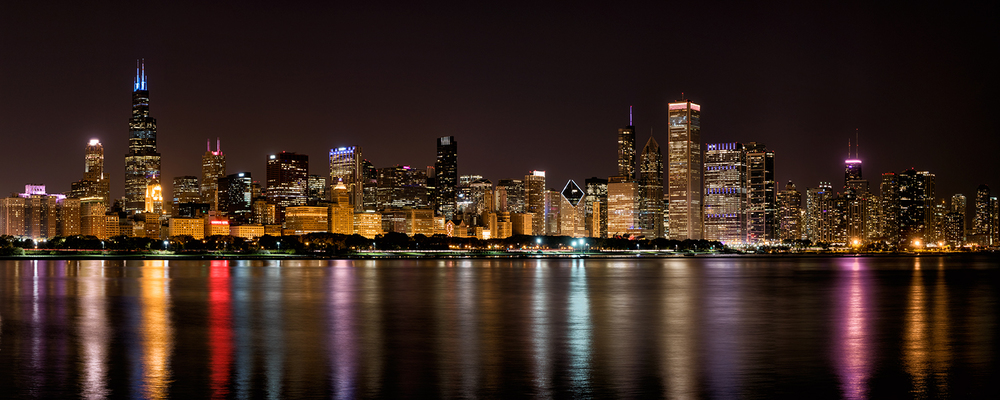willis: (117, 36, 166, 208)
